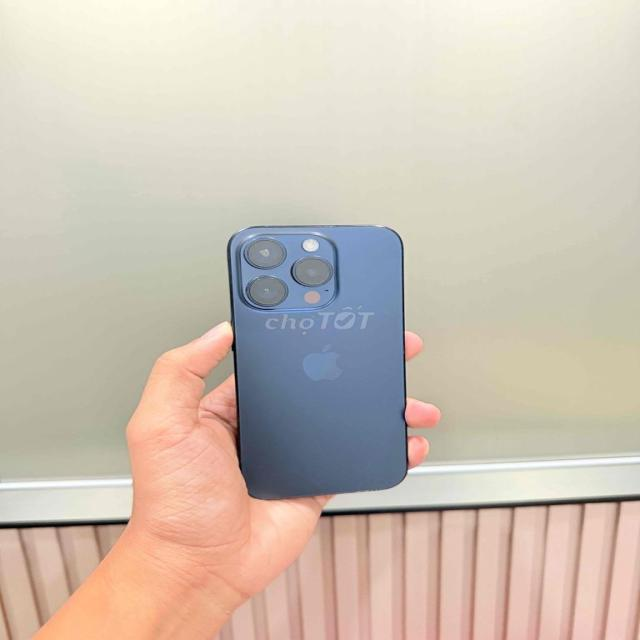gen_15: (197, 204, 433, 516)
